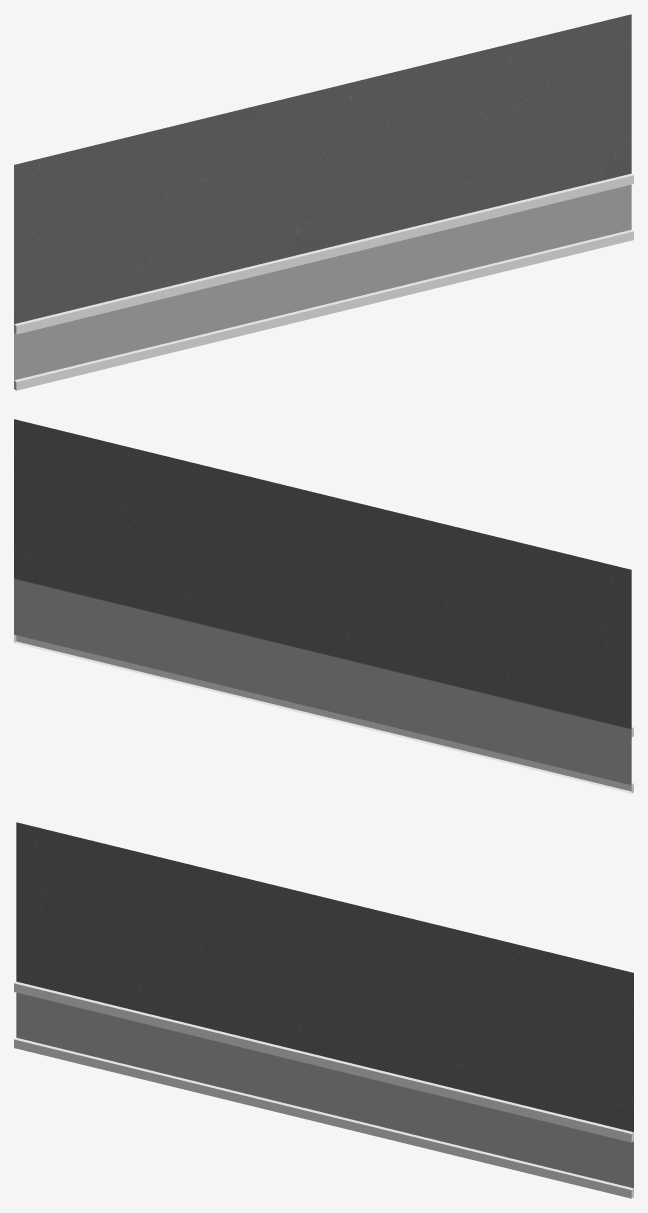
The model's file is SM06_Building_WallPanel_Exterior_03_Bottom_01.fbx.
The picture shows the model from 3 angles, top to bottom: view 1: azimuth 30°, elevation 25°; view 2: azimuth 150°, elevation 25°; view 3: azimuth 330°, elevation 25°; orthographic projection.
Visible parts, largest first — view 1: SM06_Building_WallPanel_Exterior_03_Bottom_01; view 2: SM06_Building_WallPanel_Exterior_03_Bottom_01; view 3: SM06_Building_WallPanel_Exterior_03_Bottom_01.
Part boxes in pixels (x1,y1,x2,y2): SM06_Building_WallPanel_Exterior_03_Bottom_01: [14, 14, 633, 390]; SM06_Building_WallPanel_Exterior_03_Bottom_01: [14, 419, 633, 793]; SM06_Building_WallPanel_Exterior_03_Bottom_01: [14, 822, 633, 1198].
Size of the model in its own units: 15 by 5.2 by 0.1.
